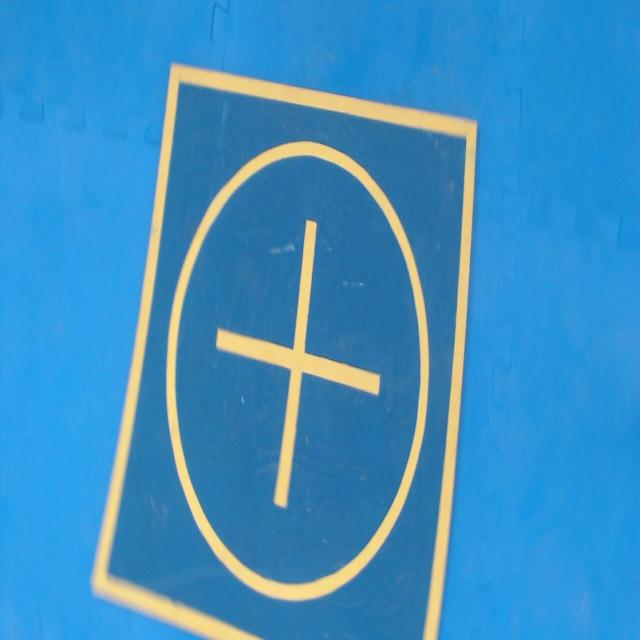base_pouso: (86, 61, 479, 639)
